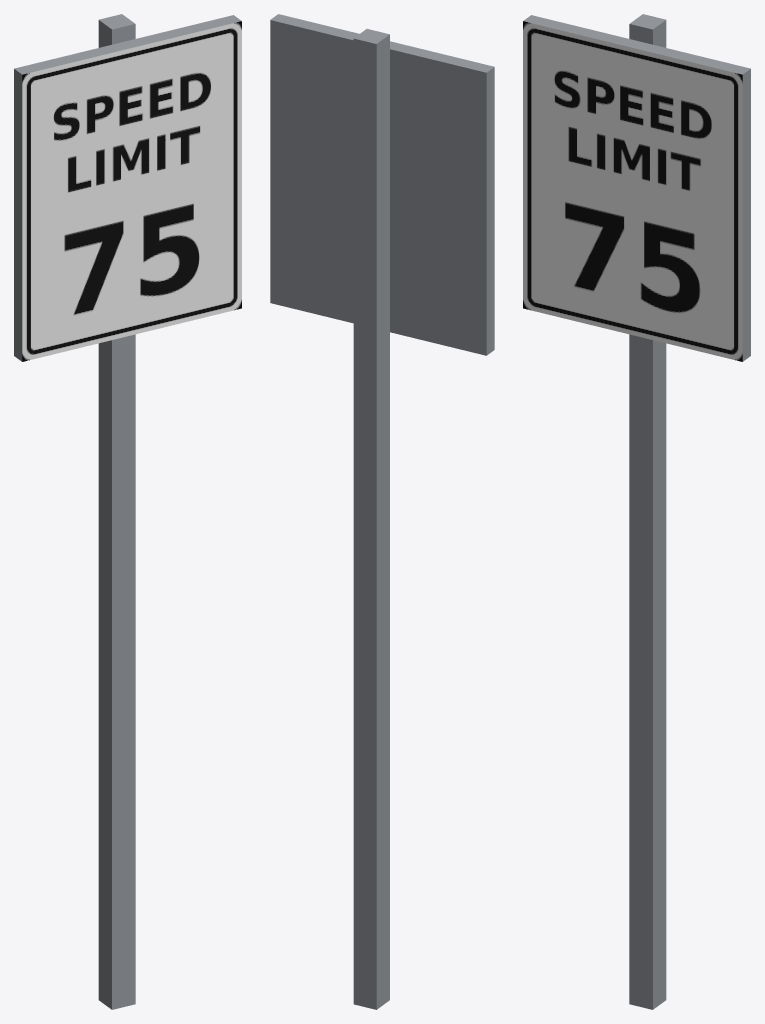
The model's file is us_speed75.dae.
3 views of the same model, side by side, from view 1: azimuth 30°, elevation 25°; view 2: azimuth 150°, elevation 25°; view 3: azimuth 330°, elevation 25° (orthographic).
Parts seen in each view (by area): view 1: sign4, Colmesh-1; view 2: Colmesh-1, sign4; view 3: sign4, Colmesh-1.
Part boxes in pixels (x1,y1,x2,y2): sign4: (22,14,241,1009); Colmesh-1: (14,15,241,361); Colmesh-1: (270,14,494,355); sign4: (353,29,389,1009); sign4: (523,14,742,1009); Colmesh-1: (523,15,750,361).
Size of the model in its own units: 0.6096 by 0.105 by 2.6.
2 materials, 1 textured.
